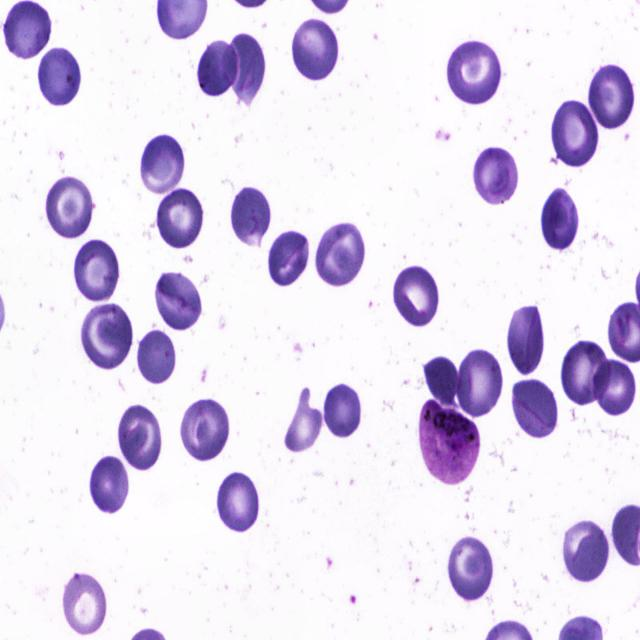difficult: (419, 401, 480, 486)
red blood cell: (81, 303, 137, 371), (448, 38, 502, 107), (289, 15, 342, 85), (178, 396, 231, 464), (454, 347, 504, 419), (44, 173, 95, 242), (314, 222, 368, 286), (449, 532, 497, 604), (550, 99, 600, 168), (560, 516, 610, 585), (115, 403, 163, 473), (561, 340, 611, 407), (586, 63, 636, 130), (152, 269, 206, 330), (391, 267, 442, 331), (154, 188, 206, 250), (471, 144, 521, 208), (214, 470, 264, 533), (140, 132, 187, 198), (510, 379, 560, 441), (506, 301, 546, 378), (222, 30, 265, 101), (2, 1, 52, 62), (195, 36, 240, 102), (72, 238, 119, 301), (62, 572, 108, 636), (36, 46, 82, 108), (283, 385, 324, 454), (265, 230, 311, 288), (230, 185, 272, 248), (90, 454, 132, 515), (593, 359, 636, 418), (541, 187, 580, 252), (323, 381, 364, 440), (138, 328, 178, 385), (424, 353, 462, 402)
